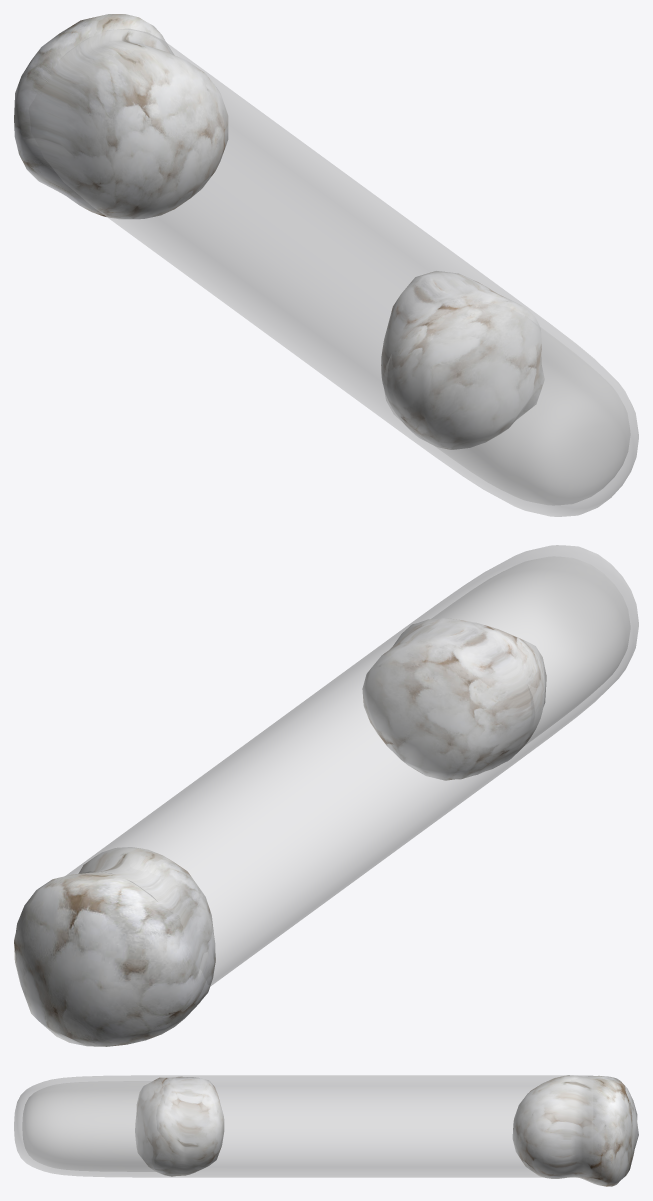
File: emptyTubeYFixed.fbx
3 views of the same model, one above another, from view 1: azimuth 30°, elevation 25°; view 2: azimuth 150°, elevation 25°; view 3: azimuth 270°, elevation 25° (orthographic). The views are drawn at different scales.
Visible parts, largest first — view 1: Cube, Sphere, Cube.001, Sphere.001; view 2: Cube, Sphere, Sphere.001, Cube.001; view 3: Cube, Cube.001, Sphere, Sphere.001.
Boxes of the visible parts, x1,y1,x2,y2 form: Cube: (29,28,638,516); Sphere: (14,14,228,219); Cube.001: (383,302,630,505); Sphere.001: (381,271,544,449); Cube: (66,545,638,986); Sphere: (14,847,215,1046); Sphere.001: (362,618,546,780); Cube.001: (431,556,630,749); Cube: (14,1075,592,1177); Cube.001: (22,1081,172,1171); Sphere: (512,1075,638,1186); Sphere.001: (135,1076,224,1176).
Bounding box in the file's own units: 1.43 × 1.34 × 7.7.
3 materials, 1 textured.
